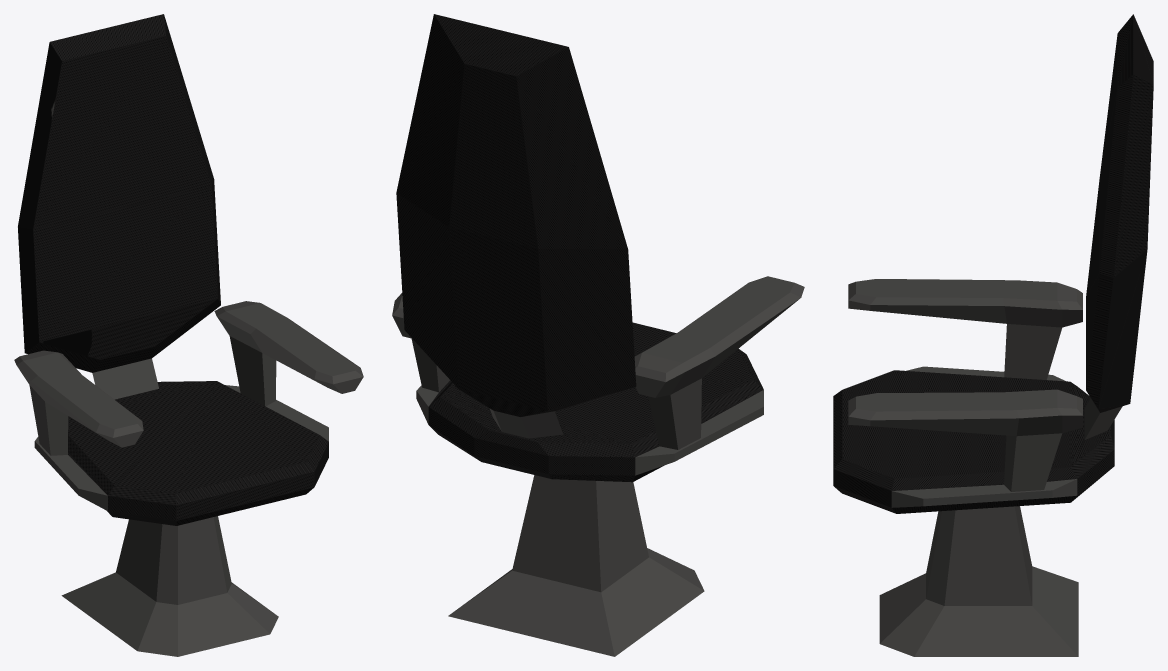
File: chair2_arm_rest.fbx
3 renders of one model, left to right at view 1: azimuth 30°, elevation 25°; view 2: azimuth 150°, elevation 25°; view 3: azimuth 270°, elevation 25°, orthographic. The views are drawn at different scales.
Visible parts, largest first — view 1: chair2_arm_rest; view 2: chair2_arm_rest; view 3: chair2_arm_rest.
Part boxes in pixels (x1=…): chair2_arm_rest: x1=14, y1=14, x2=363, y2=656; chair2_arm_rest: x1=392, y1=14, x2=804, y2=656; chair2_arm_rest: x1=833, y1=14, x2=1153, y2=656.
Size of the model in its own units: 181 by 347 by 175.
Materials: 1 (1 with a texture image).
